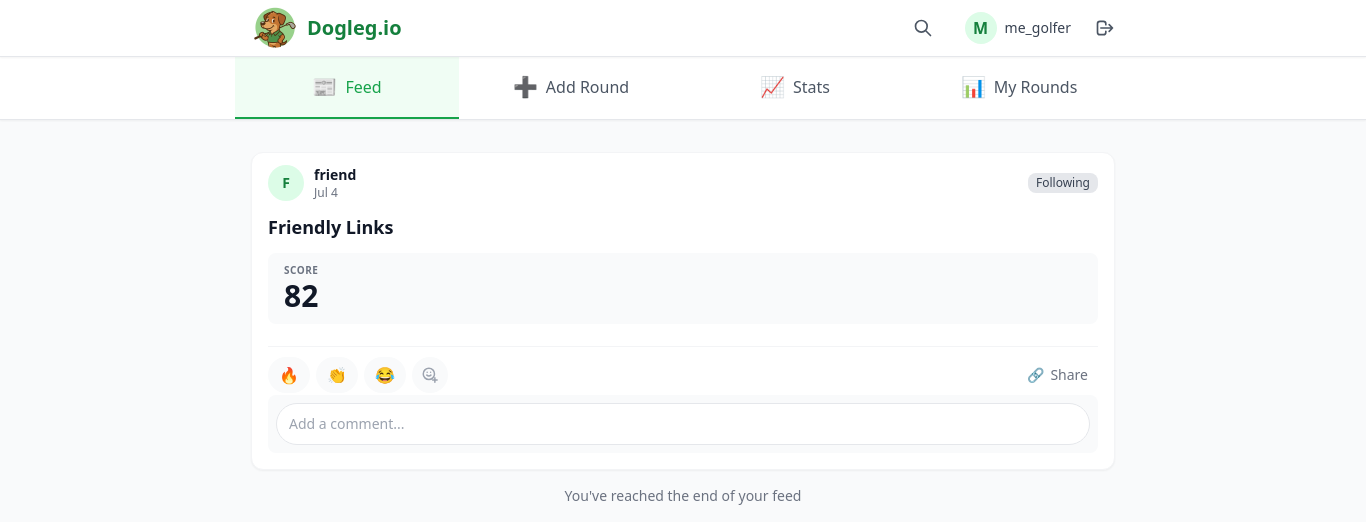
Test: reactions with no signal (SHELL-1) › two quick taps that both fail leave the card as the database has it
Expected: the element that starts with "friend" is shown, [251,152,1115,470]
Step 1. Click the button titled "fire" → {"x": 289, "y": 375}, box [268,357,310,393]
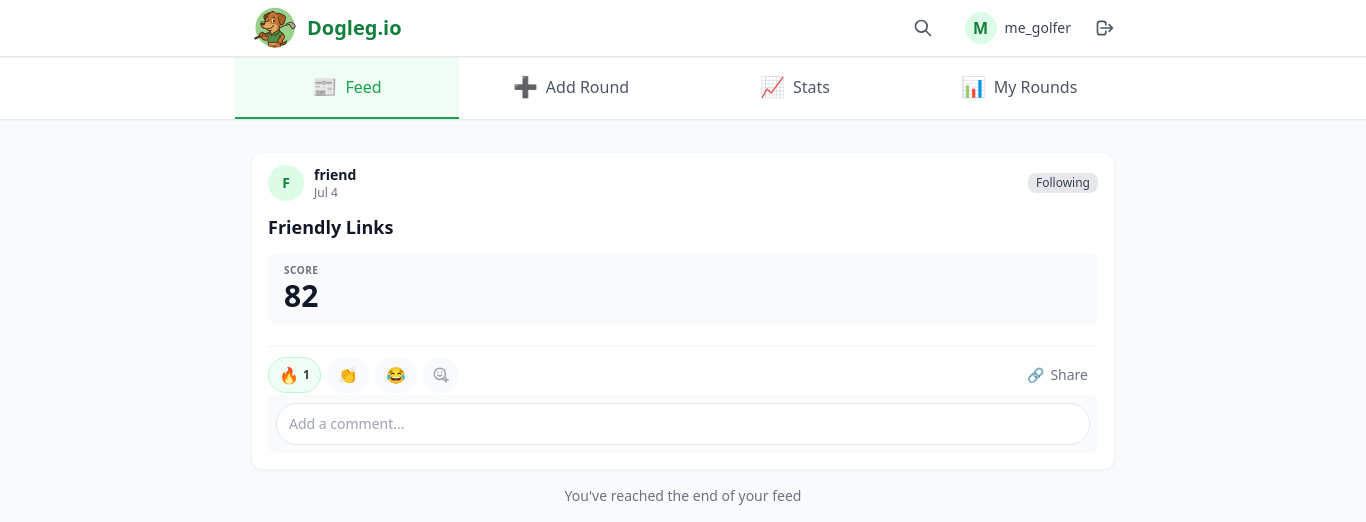
Step 2. Click the button titled "fire" → {"x": 294, "y": 375}, box [268,357,321,393]
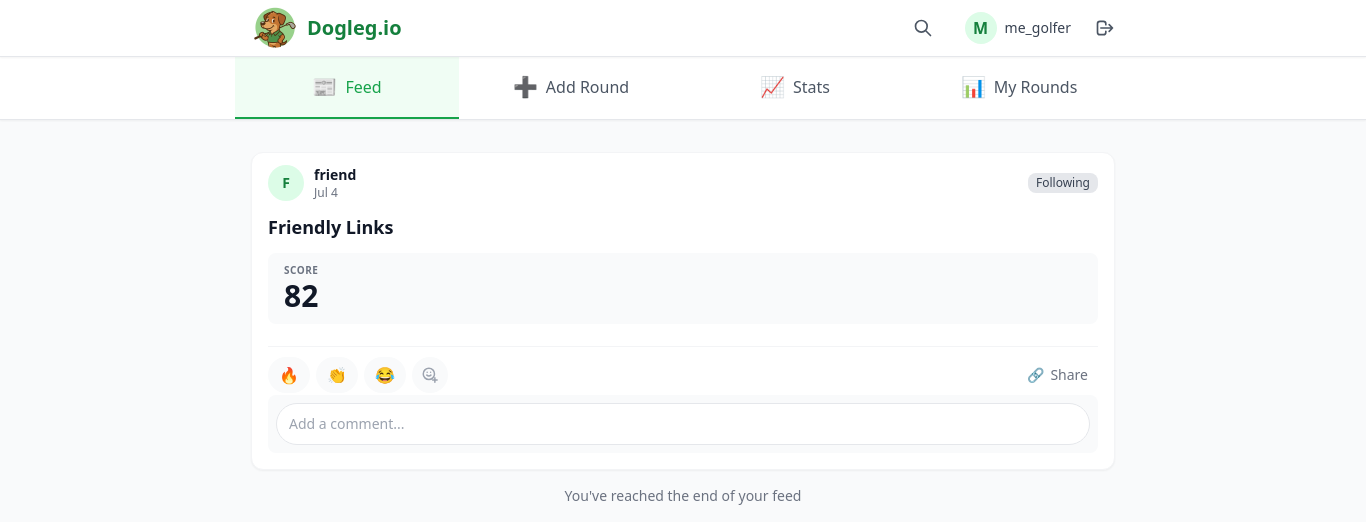
Expected: the button titled "fire" no longer shows "1", [268,357,310,393]
